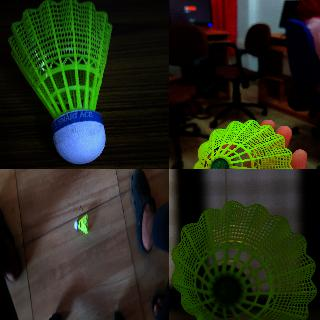shuttlecock: (171, 200, 317, 319), (8, 0, 113, 163), (193, 120, 294, 168), (74, 215, 90, 236)
